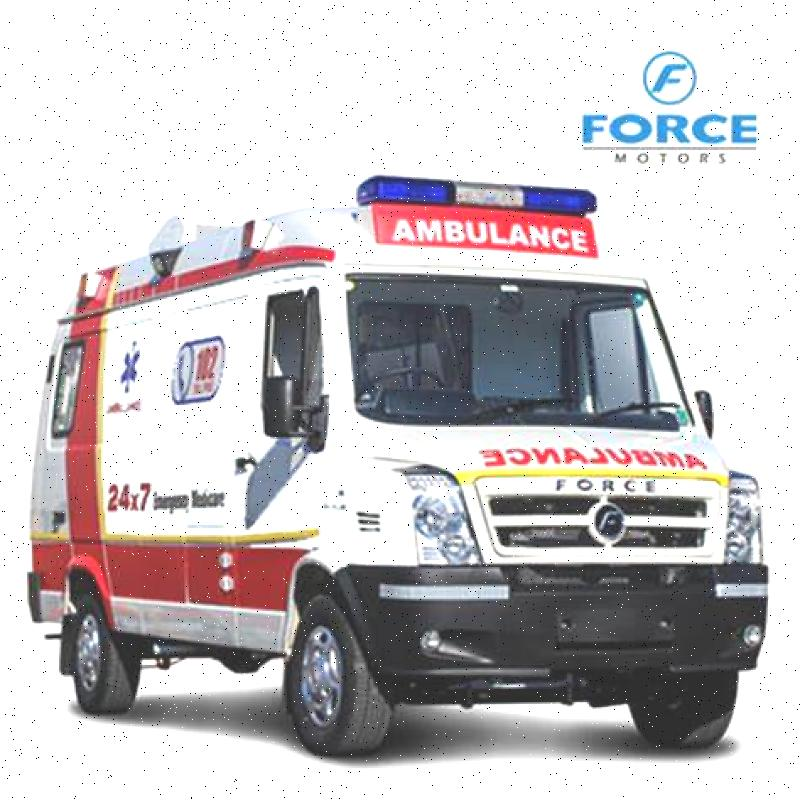AmbulanceSiren: (343, 152, 622, 245)
